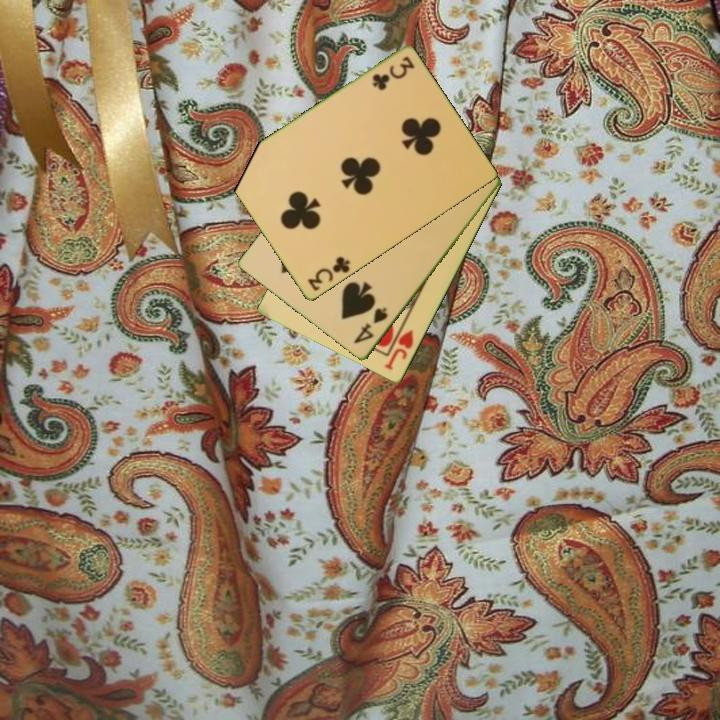3c: (304, 253, 353, 294), (369, 53, 417, 93)
4s: (350, 304, 391, 347)
Jh: (381, 319, 417, 373)
